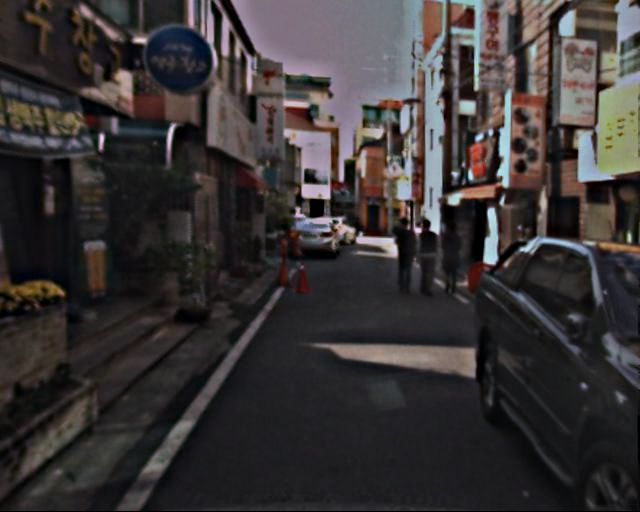person: (410, 217, 443, 298), (434, 221, 465, 296), (390, 222, 420, 295)
